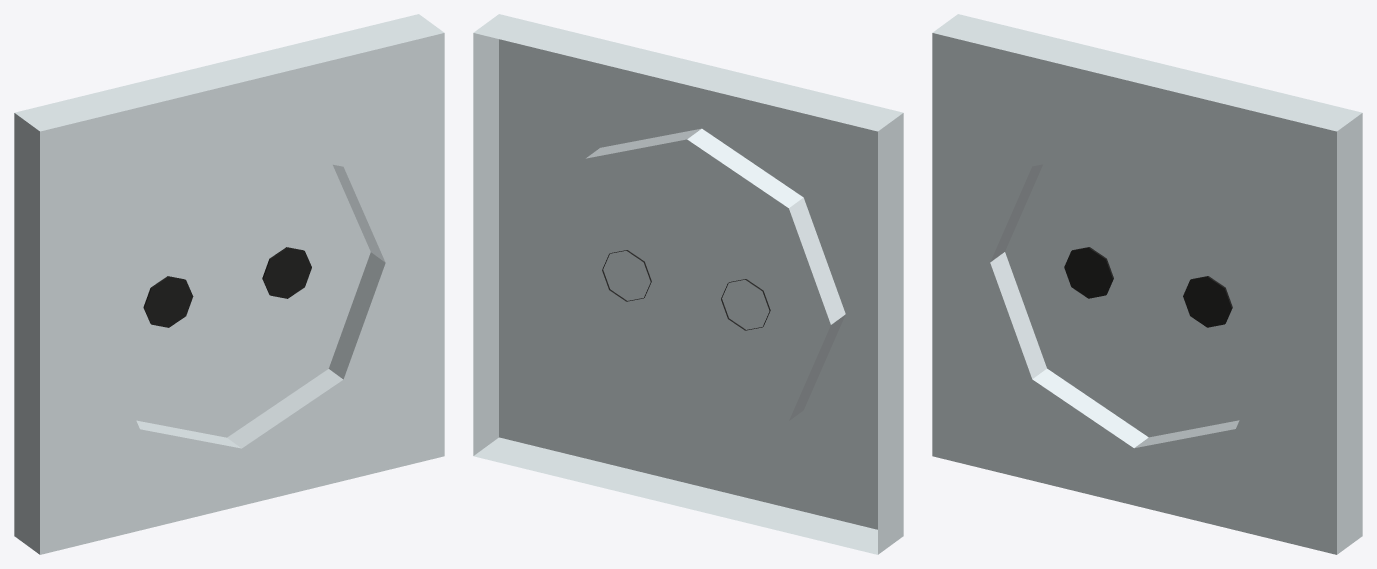
The model's file is Laundry_socket1.fbx.
3 views of the same model, side by side, from view 1: azimuth 30°, elevation 25°; view 2: azimuth 150°, elevation 25°; view 3: azimuth 330°, elevation 25° (orthographic).
Visible parts, largest first — view 1: Laundry_socket1; view 2: Laundry_socket1; view 3: Laundry_socket1.
Boxes of the visible parts, x1=… form: Laundry_socket1: x1=14, y1=14, x2=444, y2=554; Laundry_socket1: x1=473, y1=14, x2=903, y2=554; Laundry_socket1: x1=932, y1=14, x2=1362, y2=554.
Size of the model in its own units: 13.53 by 1.49 by 13.53.
